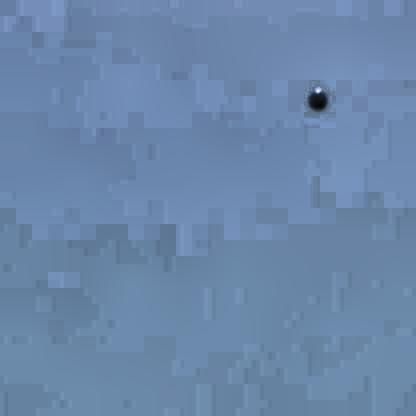golfball: (304, 81, 323, 106)
